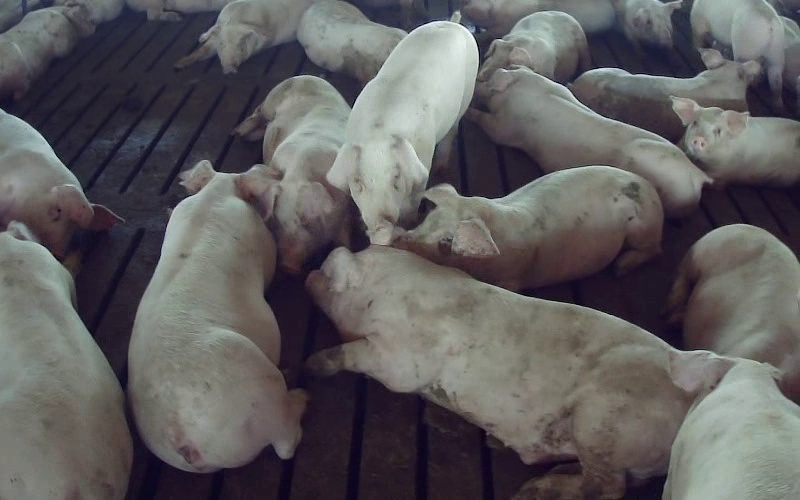pig: (307, 246, 690, 497), (128, 161, 305, 472), (468, 67, 711, 216), (327, 12, 478, 244), (395, 166, 663, 290), (666, 224, 799, 402), (235, 75, 350, 272), (663, 351, 799, 499), (569, 49, 760, 141), (670, 97, 799, 185), (690, 0, 784, 109), (297, 0, 406, 83), (0, 6, 95, 98), (477, 11, 589, 82), (463, 0, 615, 35), (613, 0, 681, 47)
